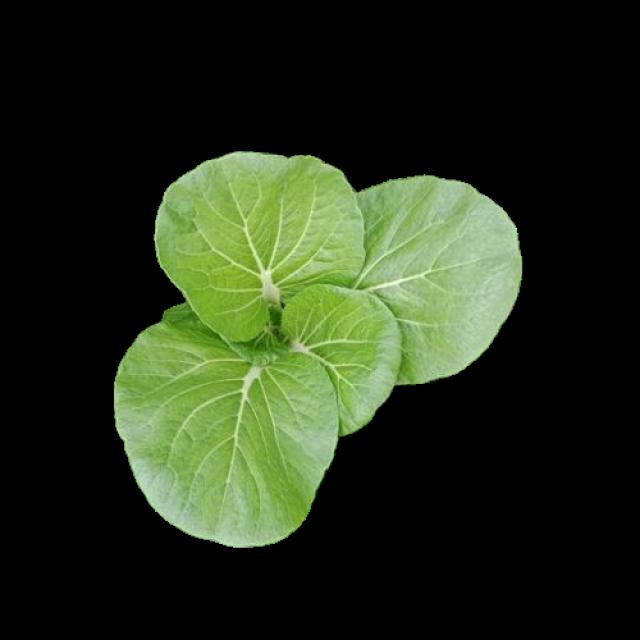healthy: (111, 159, 517, 554)
mature: (116, 156, 522, 553)
